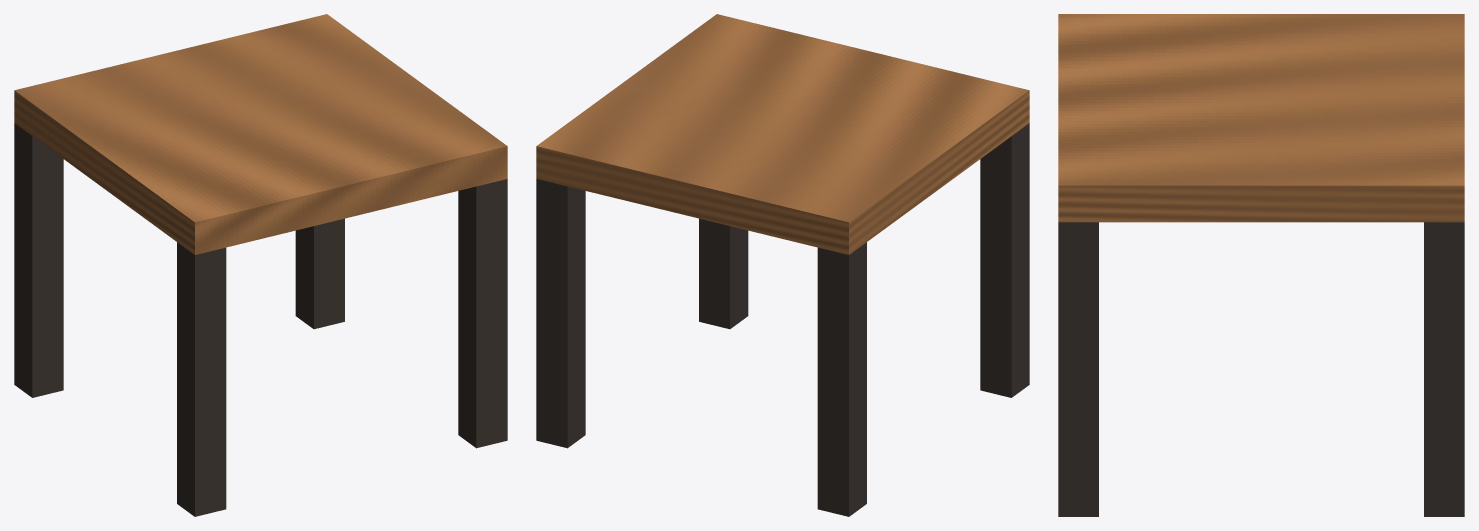
Rendered from stool.obj.
3 renders of one model, left to right at view 1: azimuth 30°, elevation 25°; view 2: azimuth 150°, elevation 25°; view 3: azimuth 270°, elevation 25°, orthographic. The views are drawn at different scales.
Visible parts, largest first — view 1: Seat, LegFL, LegFR, LegBL, LegBR; view 2: Seat, LegBL, LegBR, LegFL, LegFR; view 3: Seat, LegFR, LegBR.
Part boxes in pixels (x1,y1,x2,y2): Seat: [14, 14, 507, 254]; LegFL: [177, 242, 226, 516]; LegFR: [458, 179, 507, 448]; LegBL: [14, 123, 63, 397]; LegBR: [295, 218, 344, 329]; Seat: [536, 14, 1029, 254]; LegBL: [817, 242, 866, 516]; LegBR: [536, 179, 585, 448]; LegFL: [980, 123, 1029, 397]; LegFR: [699, 218, 748, 329]; Seat: [1058, 14, 1464, 222]; LegFR: [1058, 222, 1098, 516]; LegBR: [1424, 222, 1464, 516].
Bounding box in the file's own units: 0.5 × 0.45 × 0.5.
Materials: 2 (1 with a texture image).
